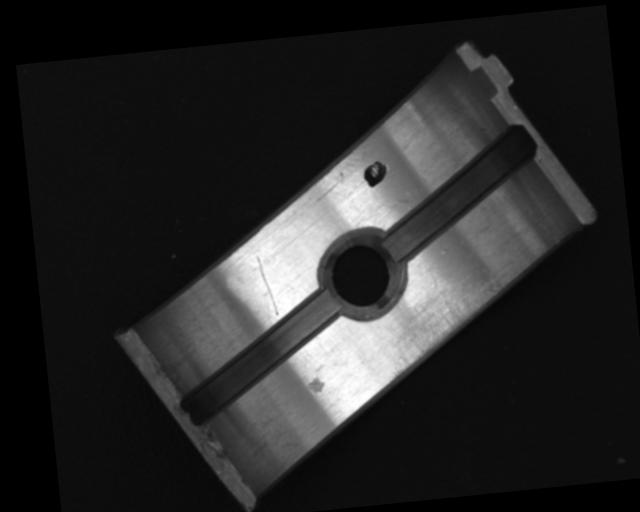blot: (361, 158, 388, 189)
bruise: (305, 375, 327, 395)
gap: (169, 286, 349, 428), (370, 124, 545, 263)
hole: (312, 225, 411, 324)
nick: (254, 253, 279, 317)
scratch: (378, 267, 524, 382)
